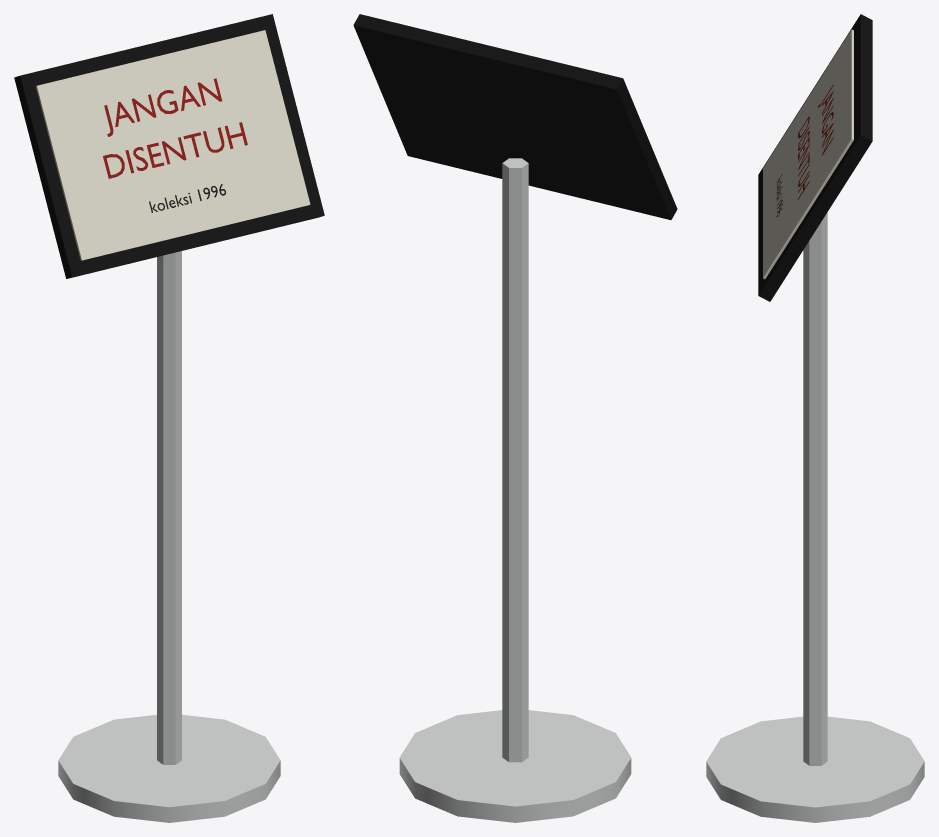
Rendered from info_sign.glb.
3 renders of one model, left to right at view 1: azimuth 30°, elevation 25°; view 2: azimuth 150°, elevation 25°; view 3: azimuth 270°, elevation 25°, orthographic. The views are drawn at different scales.
Visible parts, largest first — view 1: InfoSign; view 2: InfoSign; view 3: InfoSign.
Boxes of the visible parts, left/top/right/bottom form: InfoSign: left=14, top=14, right=324, bottom=822; InfoSign: left=353, top=14, right=677, bottom=822; InfoSign: left=706, top=14, right=924, bottom=822.
Bounding box in the file's own units: 0.42 × 1.13 × 0.32.
